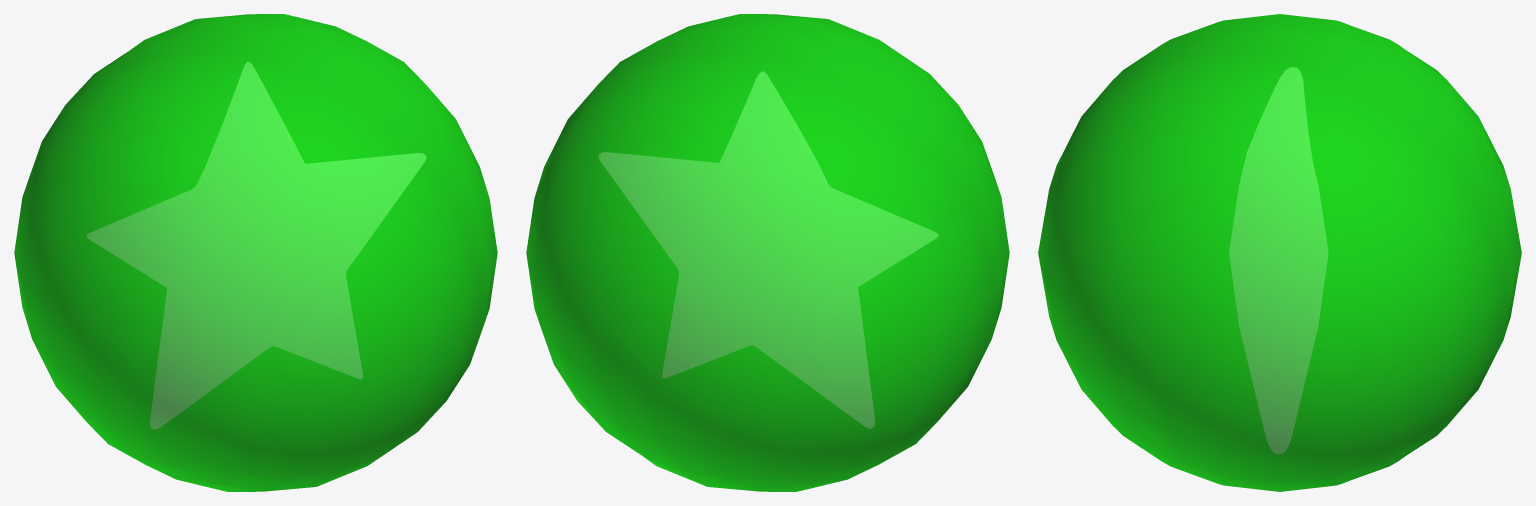
The model's file is StarPoint.glb.
3 renders of one model, left to right at view 1: azimuth 30°, elevation 25°; view 2: azimuth 150°, elevation 25°; view 3: azimuth 270°, elevation 25°, orthographic.
Parts seen in each view (by area): view 1: StarPoint_StarBody; view 2: StarPoint_StarBody; view 3: StarPoint_StarBody.
Boxes of the visible parts, x1=… form: StarPoint_StarBody: x1=14, y1=14, x2=497, y2=491; StarPoint_StarBody: x1=526, y1=14, x2=1009, y2=491; StarPoint_StarBody: x1=1038, y1=14, x2=1521, y2=491.
Size of the model in its own units: 2.52 by 2.52 by 2.52.
